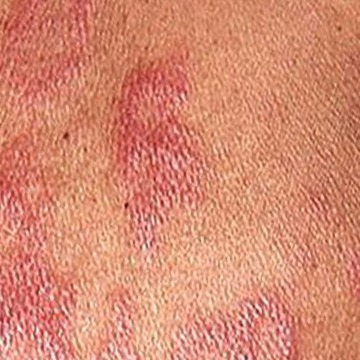Leprosy: (100, 49, 211, 259), (0, 133, 84, 359), (164, 293, 296, 359), (90, 280, 146, 359)
